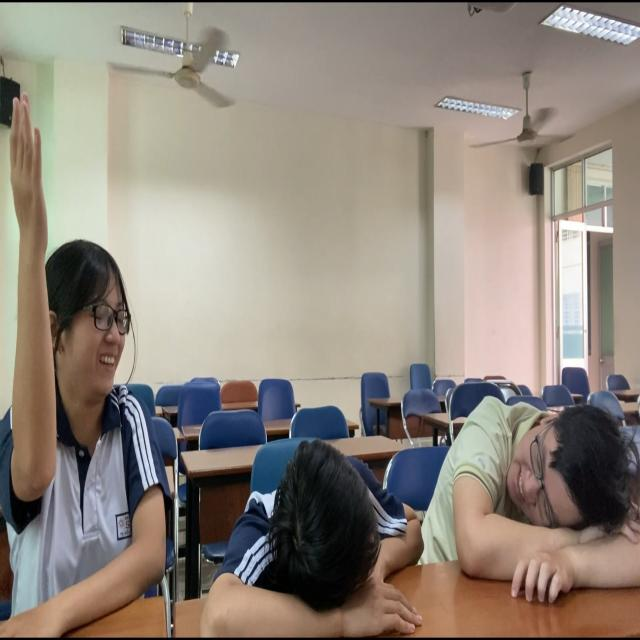raise_hand: (1, 87, 166, 640)
sleep: (193, 421, 425, 640), (422, 375, 640, 588)
